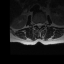CCS_normal: (38, 21, 40, 29)
LFS_normal: (42, 21, 44, 26)
LLS_normal: (40, 21, 42, 27)
RFS_normal: (34, 21, 36, 27)
RLS_normal: (36, 21, 38, 27)
